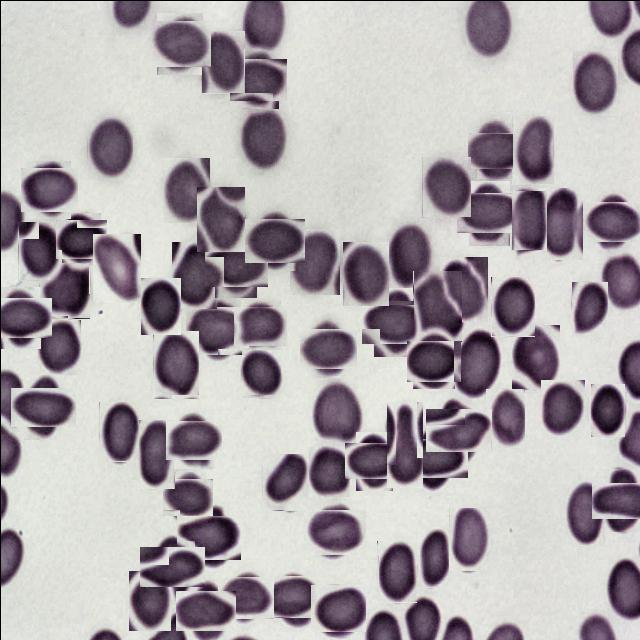red blood cell: (412, 270, 461, 341), (453, 327, 500, 400), (92, 233, 140, 302), (289, 228, 339, 294), (310, 379, 362, 442), (386, 220, 432, 290), (385, 401, 422, 488), (152, 330, 198, 399), (439, 254, 487, 320), (538, 187, 582, 259), (188, 302, 244, 358), (511, 324, 559, 389), (196, 186, 244, 251), (180, 509, 236, 564), (571, 50, 617, 116), (367, 294, 422, 349), (431, 402, 485, 458), (171, 241, 216, 308), (239, 107, 286, 171), (163, 157, 209, 222), (86, 115, 132, 180), (421, 156, 470, 217), (342, 241, 388, 305), (406, 431, 460, 485), (307, 504, 361, 558), (152, 16, 206, 70), (512, 115, 554, 184), (208, 238, 262, 291), (38, 262, 89, 318), (562, 478, 604, 546), (462, 186, 515, 239), (145, 540, 198, 593), (200, 30, 244, 93), (16, 380, 69, 432), (248, 213, 300, 266), (268, 570, 320, 622), (312, 582, 364, 634), (22, 163, 74, 214), (448, 507, 490, 570), (490, 276, 534, 336), (136, 419, 174, 488), (261, 453, 307, 510), (128, 570, 170, 630), (232, 54, 282, 104), (220, 572, 270, 622), (180, 585, 230, 635), (376, 540, 416, 602), (540, 379, 584, 435), (587, 197, 637, 246), (17, 221, 58, 280), (303, 323, 352, 372), (486, 388, 526, 448), (98, 401, 138, 461), (37, 319, 80, 374), (409, 337, 457, 385), (350, 436, 398, 484), (169, 416, 217, 464), (0, 292, 45, 343), (140, 277, 180, 334), (236, 302, 284, 348), (510, 190, 546, 250), (597, 475, 640, 525), (415, 528, 451, 587), (471, 126, 517, 172), (58, 215, 104, 261), (308, 445, 349, 496), (571, 281, 607, 336), (240, 349, 280, 398), (164, 474, 208, 518), (589, 383, 624, 437)
